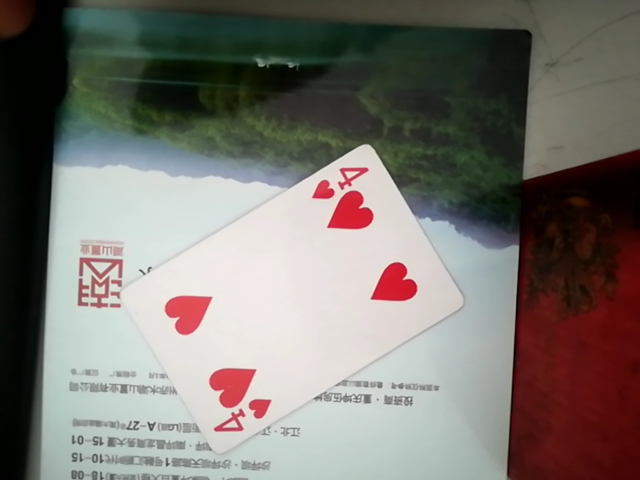hx 4: (80, 139, 465, 444)
